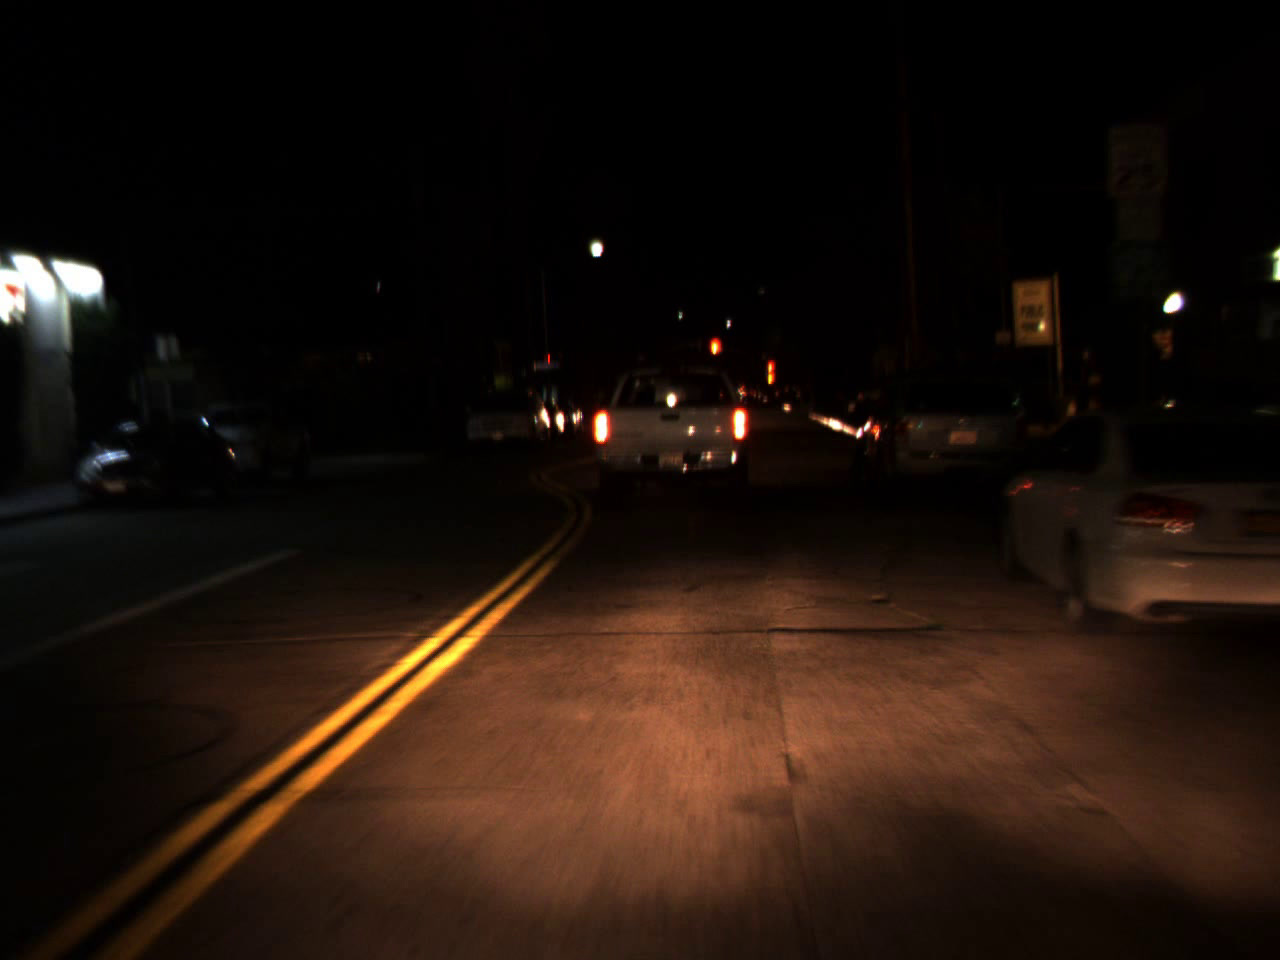stop: (708, 335, 721, 372), (765, 358, 777, 382)
